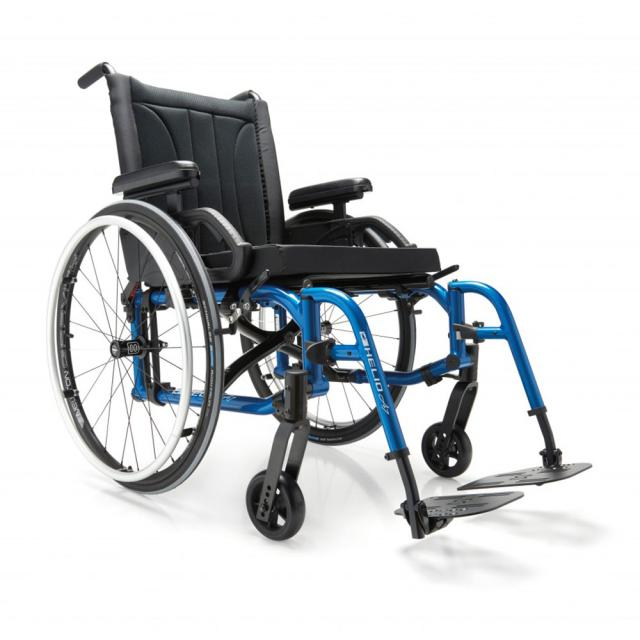wheelchairs: (36, 56, 600, 565)
